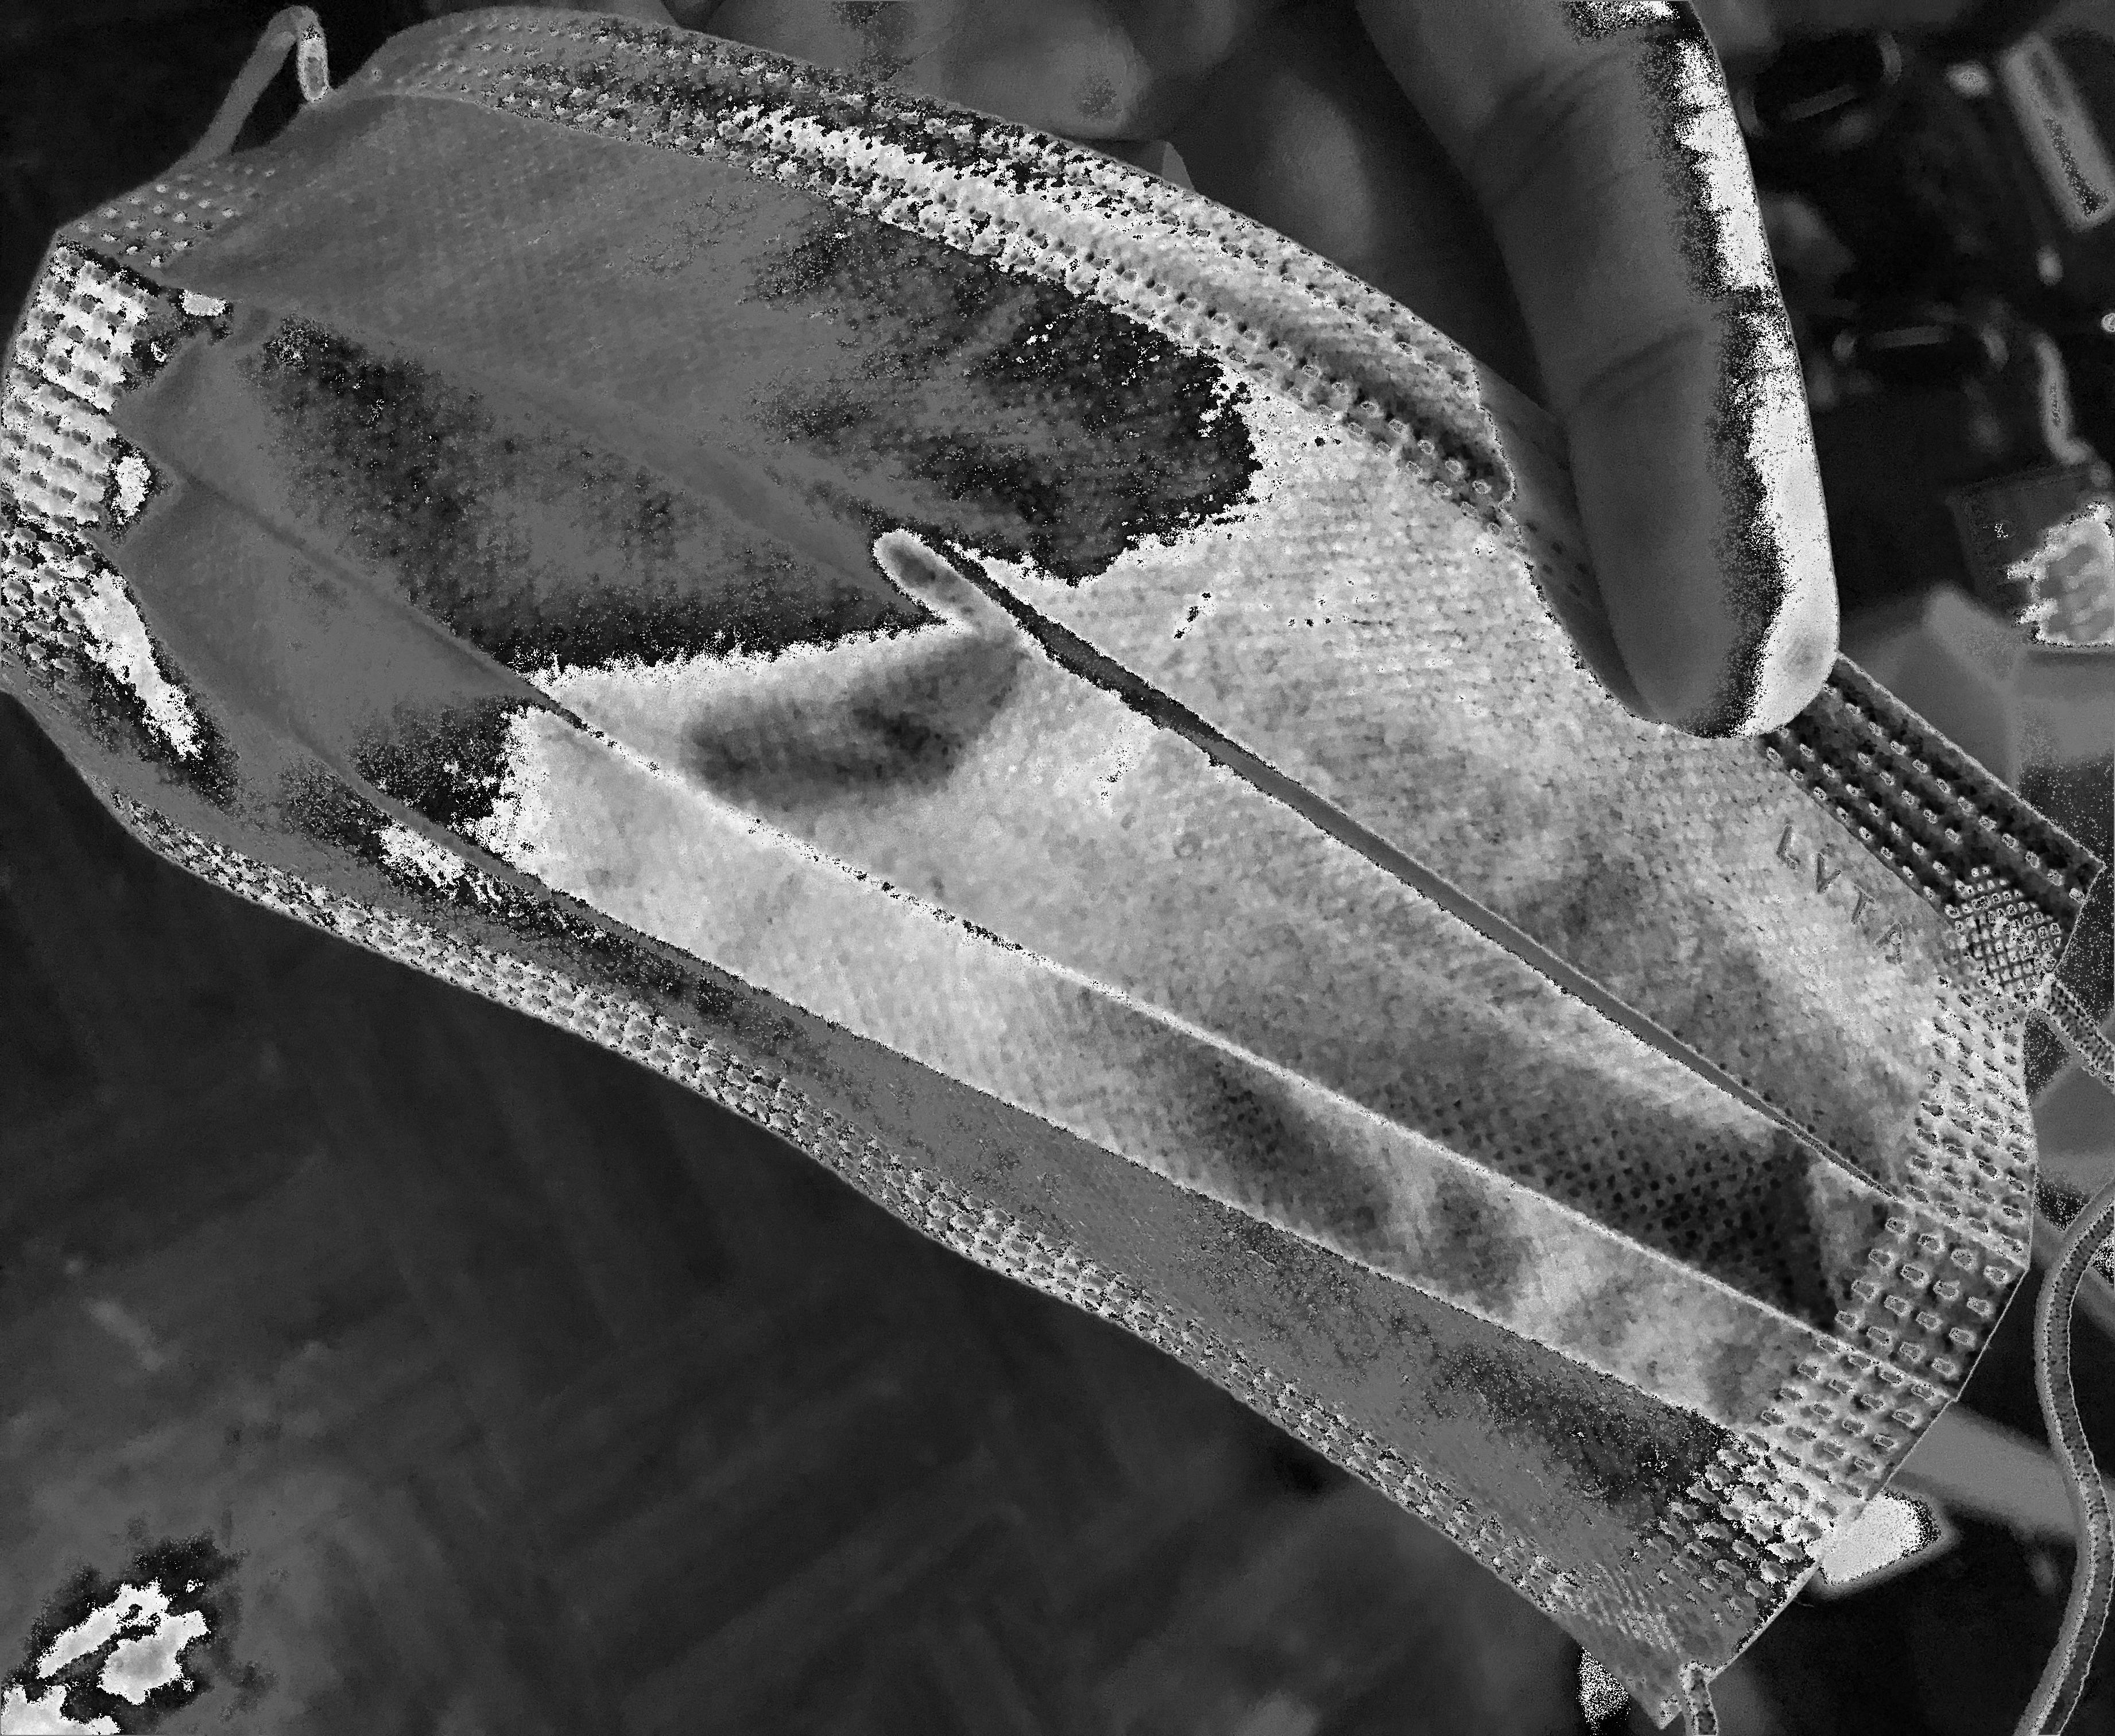High GSM: (386, 160, 718, 872), (768, 371, 1223, 849), (1073, 896, 1920, 1072)
